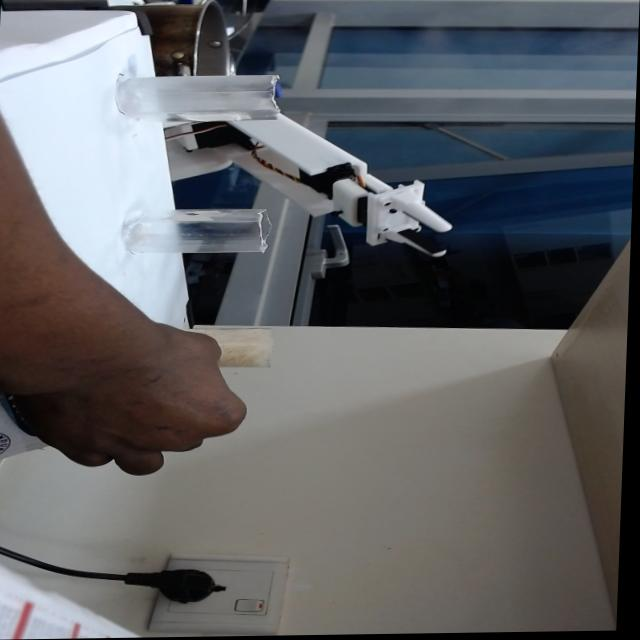cooking_pot: (150, 0, 241, 82)
